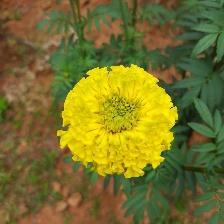marigold: (59, 61, 180, 180)
